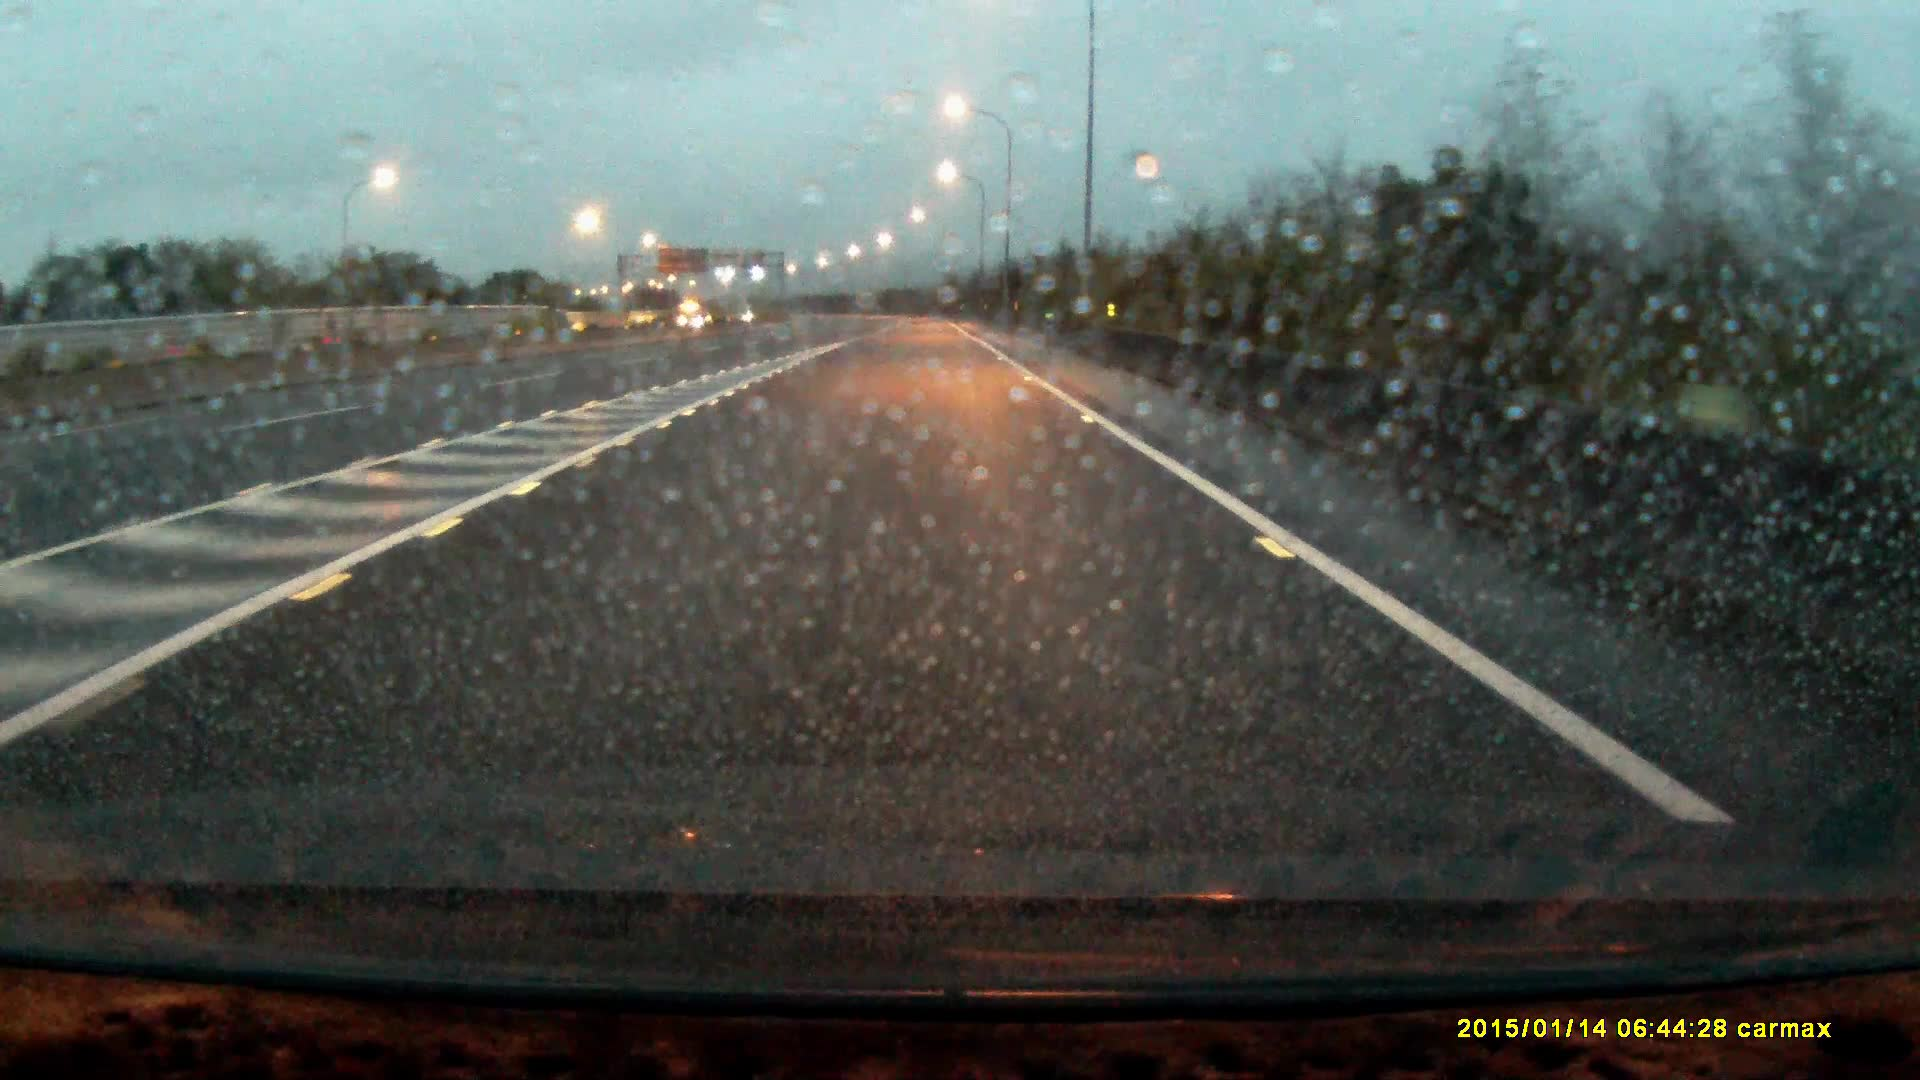vehicle: (676, 298, 709, 326)
